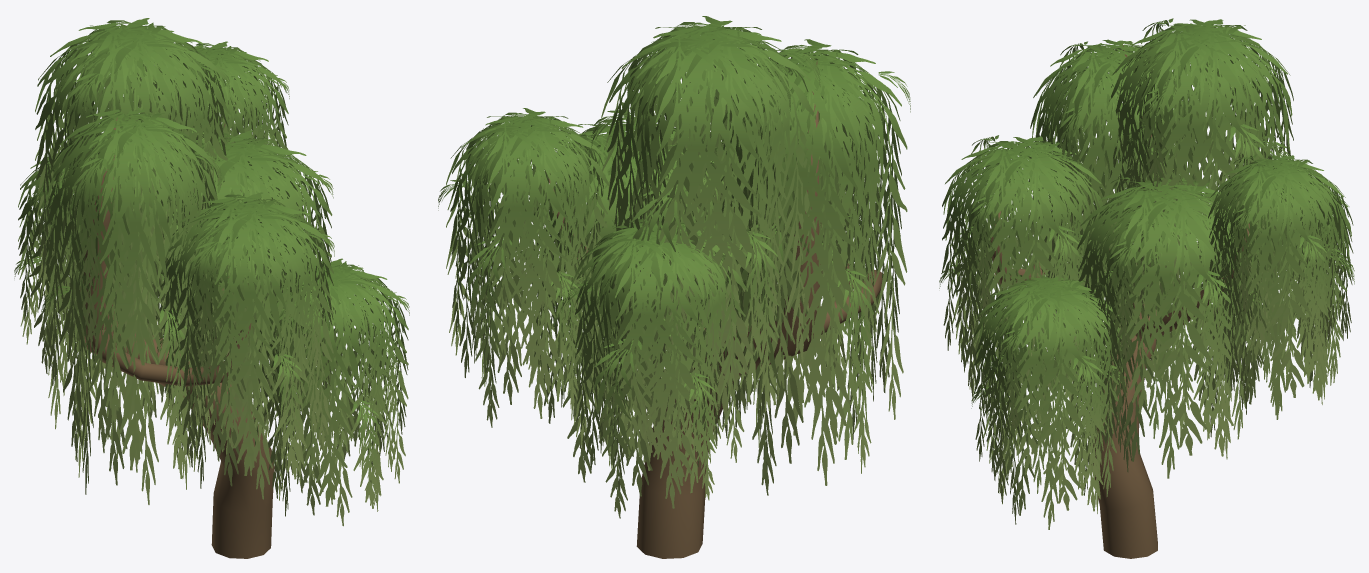
Rendered from tree 3.fbx.
The picture shows the model from 3 angles, left to right: view 1: azimuth 30°, elevation 25°; view 2: azimuth 150°, elevation 25°; view 3: azimuth 270°, elevation 25°; orthographic projection. The views are drawn at different scales.
Visible parts, largest first — view 1: Vert.084, Vert.002; view 2: Vert.084, Vert.002; view 3: Vert.084, Vert.002.
Boxes of the visible parts, left/top/right/bottom form: Vert.084: left=14, top=18, right=409, bottom=526; Vert.002: left=80, top=117, right=274, bottom=558; Vert.084: left=438, top=16, right=910, bottom=518; Vert.002: left=548, top=61, right=883, bottom=558; Vert.084: left=939, top=18, right=1354, bottom=529; Vert.002: left=990, top=44, right=1249, bottom=558.
Size of the model in its own units: 572 by 883 by 692.
